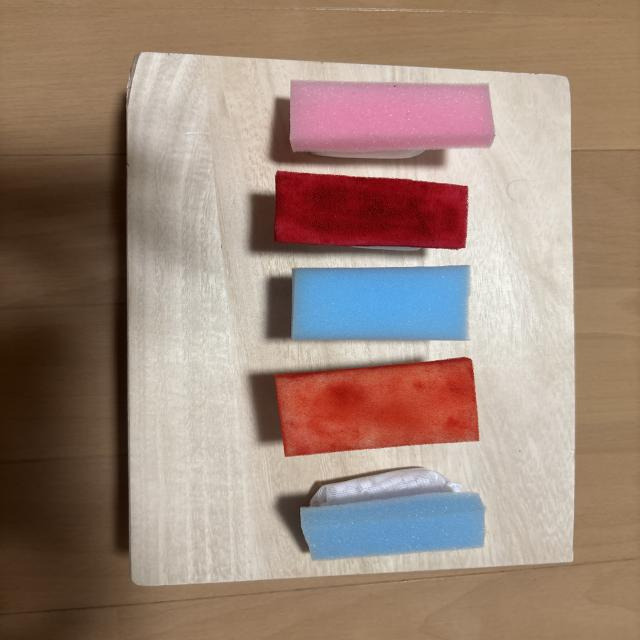NG: (301, 467, 485, 560)
ika: (291, 265, 470, 340)
maguro: (274, 171, 468, 250)
salmon: (275, 357, 479, 456)
tai: (290, 80, 495, 158)
